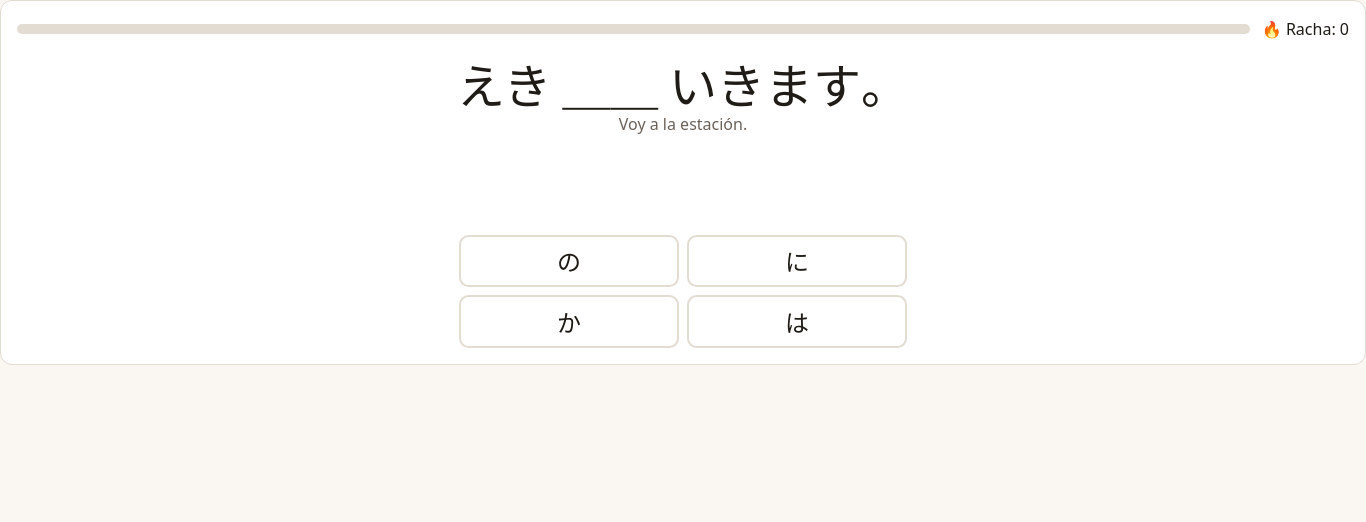
Scenario: particles game › wrong choice is disabled and counted; the right one must still be found
This screenshot has width=1366, height=522.
What coordinates should you click on to do the following:
click the button "の"
I would click on:
 (569, 261)
Its box is [459,235,679,287].
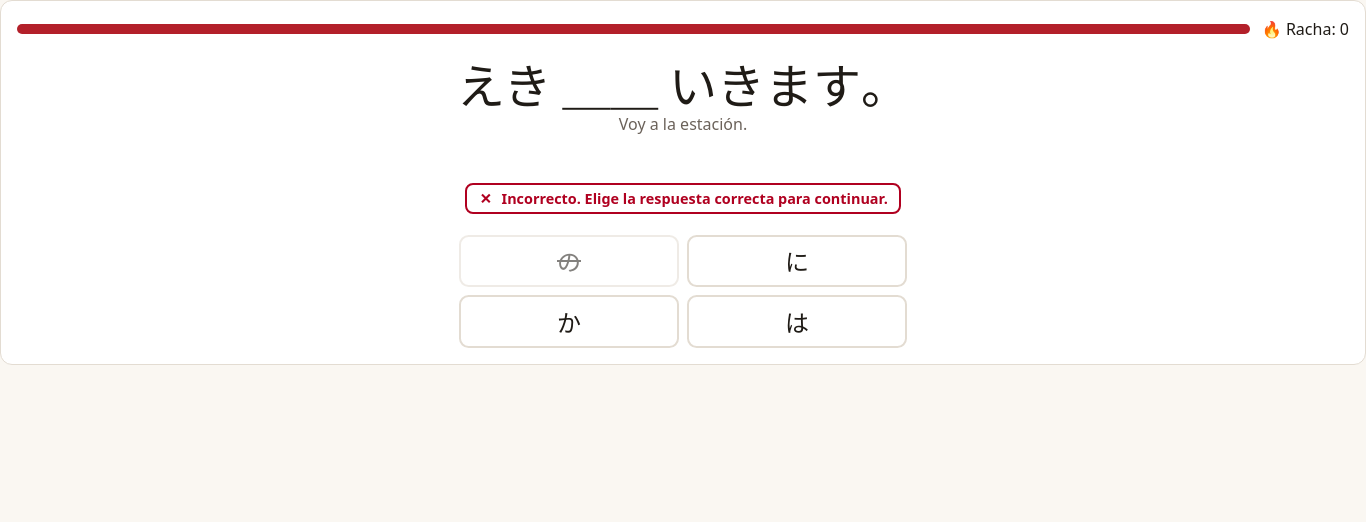
Now the button "の" is disabled, box [459,235,679,287]
Now the text "Incorrecto. Elige la respuesta correcta para continuar." is shown, box [502,190,888,207]
What coordinates should you click on to do the following:
click the button "に"
I would click on:
 (797, 261)
Its box is [687,235,907,287].
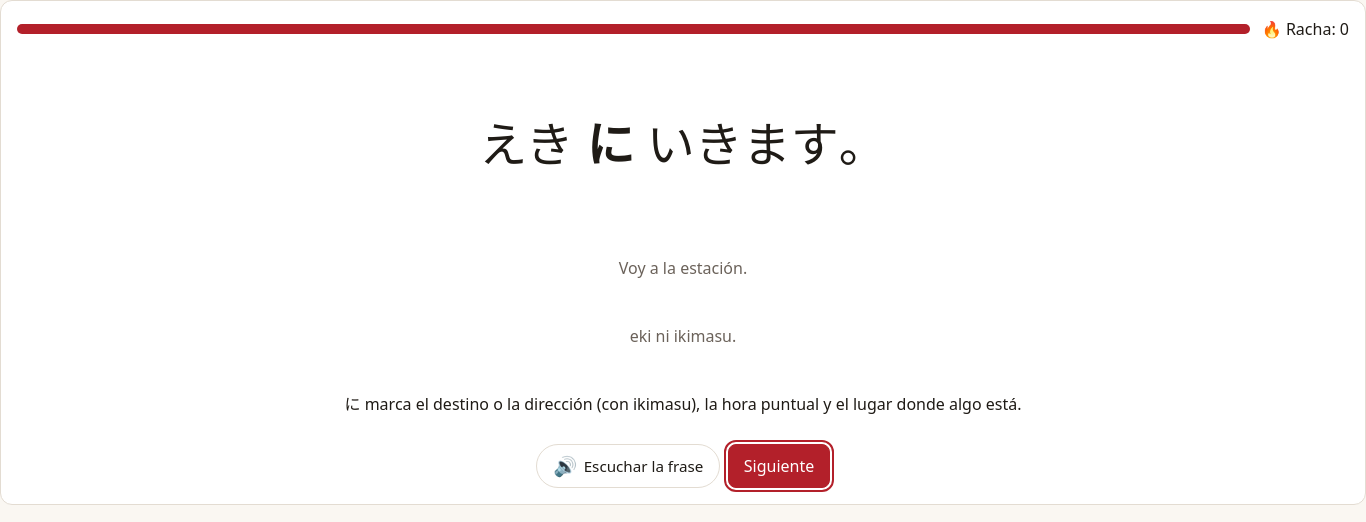
Now the message with test id "explanation" is shown, box [344,392,1022,416]
